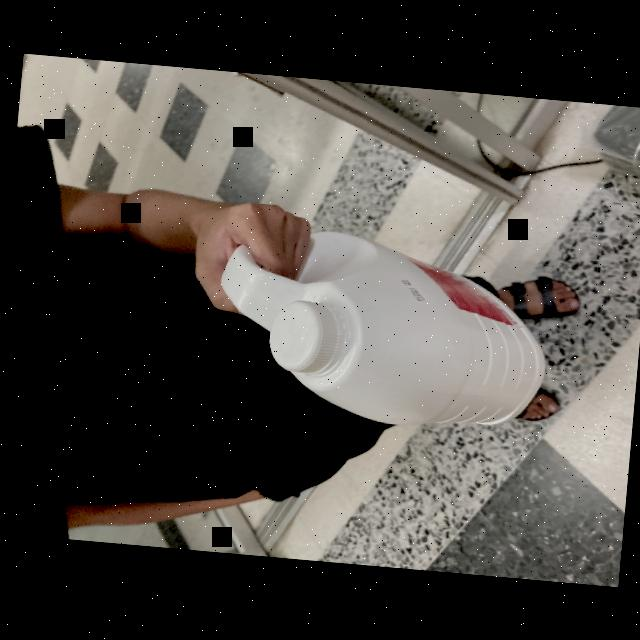chemical_plastic_gallon: (205, 220, 556, 436)
